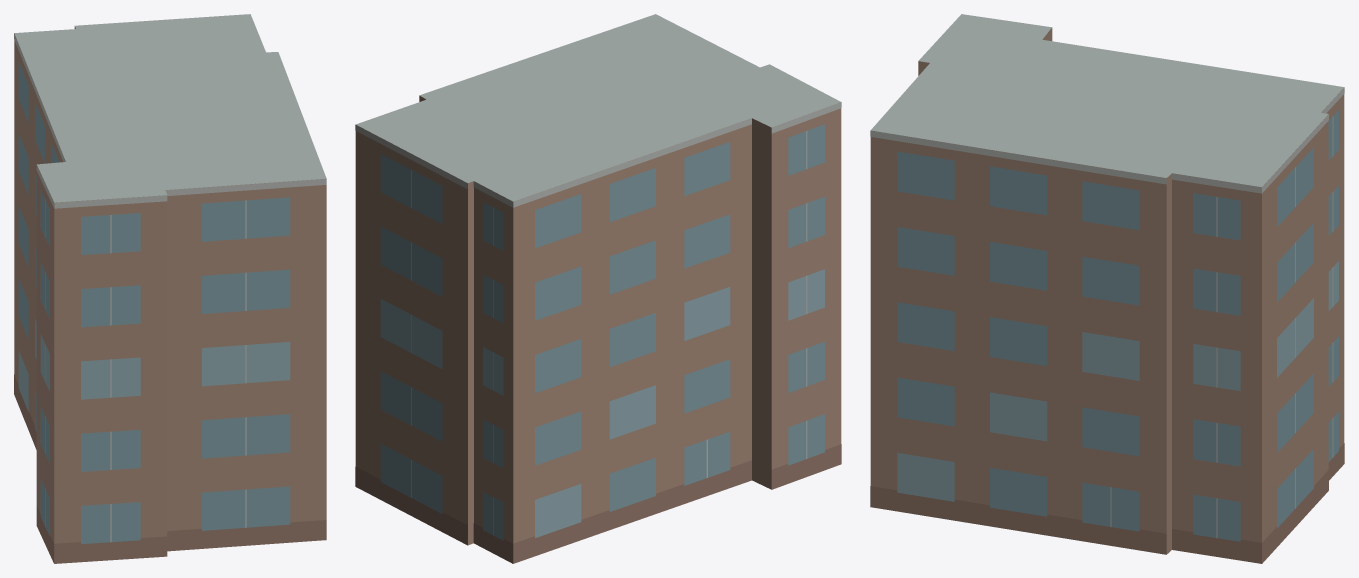
File: survey-upis-32710094.glb
The picture shows the model from 3 angles, left to right: view 1: azimuth 30°, elevation 25°; view 2: azimuth 150°, elevation 25°; view 3: azimuth 270°, elevation 25°; orthographic projection. The views are drawn at different scales.
Parts seen in each view (by area): view 1: survey-upis-32710094.tmp; view 2: survey-upis-32710094.tmp; view 3: survey-upis-32710094.tmp.
Boxes of the visible parts, x1,y1,x2,y2 form: survey-upis-32710094.tmp: (14,14,326,563); survey-upis-32710094.tmp: (355,14,841,563); survey-upis-32710094.tmp: (870,14,1344,563).
Size of the model in its own units: 14.21 by 14.4 by 16.43.
